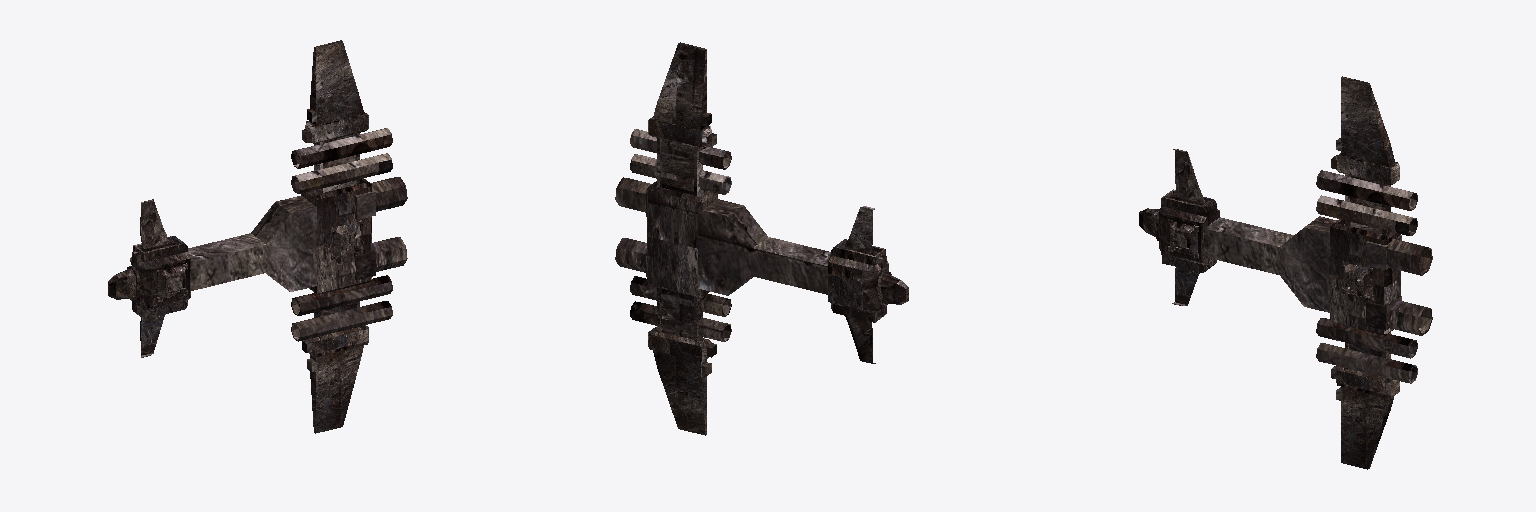
The picture shows the model from 3 angles: view 1: azimuth 30°, elevation 25°; view 2: azimuth 150°, elevation 25°; view 3: azimuth 330°, elevation 25°; orthographic projection.
Visible parts, largest first — view 1: Box149, Box148, Box183, Box14, Box135, Tube04, Tube03, Tube01, Tube02, Box146, Tube05, Tube06 (+4 smaller); view 2: Box149, Box14, Box148, Box183, Box135, Box146, Box147, Box184, Tube04, Tube01, Tube03, Tube02 (+3 smaller); view 3: Box149, Box148, Box183, Box14, Box135, Tube01, Tube03, Tube04, Tube02, Box146, Tube06, Tube05 (+5 smaller).
Part boxes in pixels (left/top/right/bottom): Box149: left=188, top=196, right=316, bottom=291; Box148: left=305, top=40, right=368, bottom=143; Box183: left=307, top=325, right=368, bottom=433; Box14: left=301, top=178, right=371, bottom=294; Box135: left=130, top=236, right=190, bottom=318; Tube04: left=291, top=153, right=392, bottom=193; Tube03: left=291, top=128, right=392, bottom=168; Tube01: left=291, top=301, right=392, bottom=341; Tube02: left=291, top=275, right=392, bottom=315; Box146: left=140, top=199, right=169, bottom=357; Tube05: left=338, top=237, right=407, bottom=277; Tube06: left=338, top=177, right=407, bottom=216; Box149: left=698, top=199, right=830, bottom=295; Box14: left=647, top=181, right=717, bottom=297; Box148: left=648, top=42, right=711, bottom=148; Box183: left=648, top=327, right=711, bottom=435; Box135: left=828, top=239, right=888, bottom=322; Box146: left=844, top=206, right=875, bottom=363; Box147: left=657, top=138, right=702, bottom=196; Box184: left=657, top=287, right=702, bottom=341; Tube04: left=630, top=154, right=731, bottom=194; Tube01: left=630, top=301, right=731, bottom=341; Tube03: left=630, top=129, right=731, bottom=169; Tube02: left=630, top=276, right=731, bottom=316; Box149: left=1203, top=216, right=1337, bottom=312; Box148: left=1336, top=76, right=1399, bottom=184; Box183: left=1336, top=366, right=1399, bottom=469; Box14: left=1330, top=219, right=1400, bottom=335; Box135: left=1159, top=189, right=1219, bottom=272; Tube01: left=1316, top=343, right=1417, bottom=383; Tube03: left=1316, top=170, right=1417, bottom=210; Tube04: left=1316, top=195, right=1417, bottom=235; Tube02: left=1316, top=318, right=1417, bottom=358; Box146: left=1172, top=149, right=1204, bottom=305; Tube06: left=1349, top=239, right=1432, bottom=275; Tube05: left=1349, top=299, right=1432, bottom=335.
Size of the model in its own units: 16.04 by 20.41 by 2.17.
Materials: 1 (1 with a texture image).